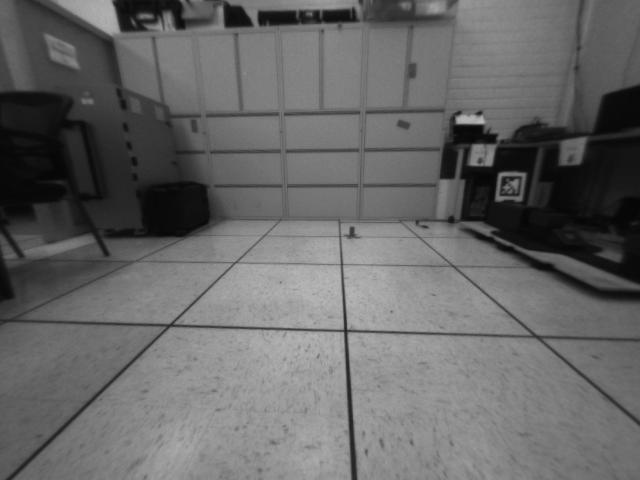X: (344, 225, 361, 239)
